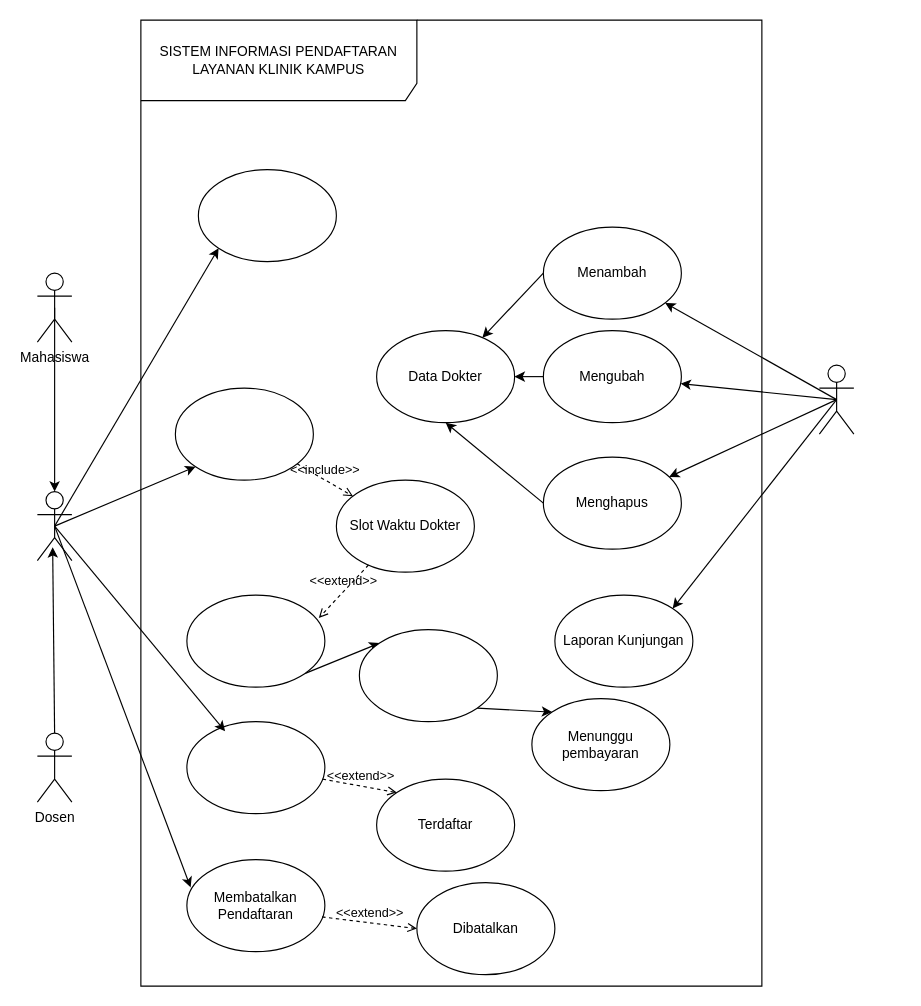
Some shapes in this 921 by 1006 pixel diagram are drawn without their labels. Here are the shapes that lost their labels. From the top down, the box of each, then its label:
(197, 168, 336, 262): Riwayat Kunjungan
(818, 364, 854, 434): Petugas Pendaftaran
(174, 387, 313, 480): Jadwal Dokter
(36, 490, 72, 561): Pasien
(186, 594, 325, 687): Pendaftaran
(358, 628, 497, 722): Pengecekan Ketersiadaan Jadwal
(186, 720, 325, 814): Membayar Administrasi
